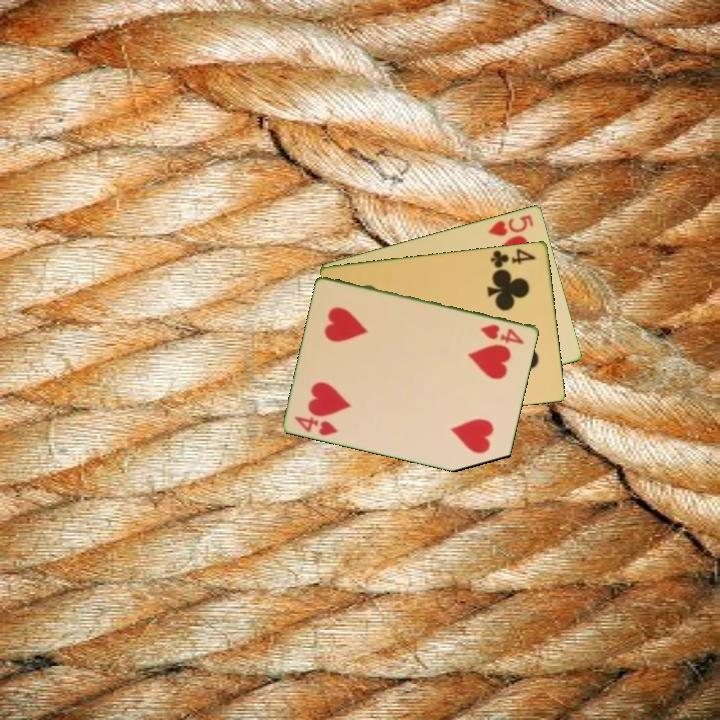4c: (487, 245, 539, 270)
4h: (477, 320, 527, 347), (291, 412, 341, 438)
5h: (485, 211, 536, 239)
